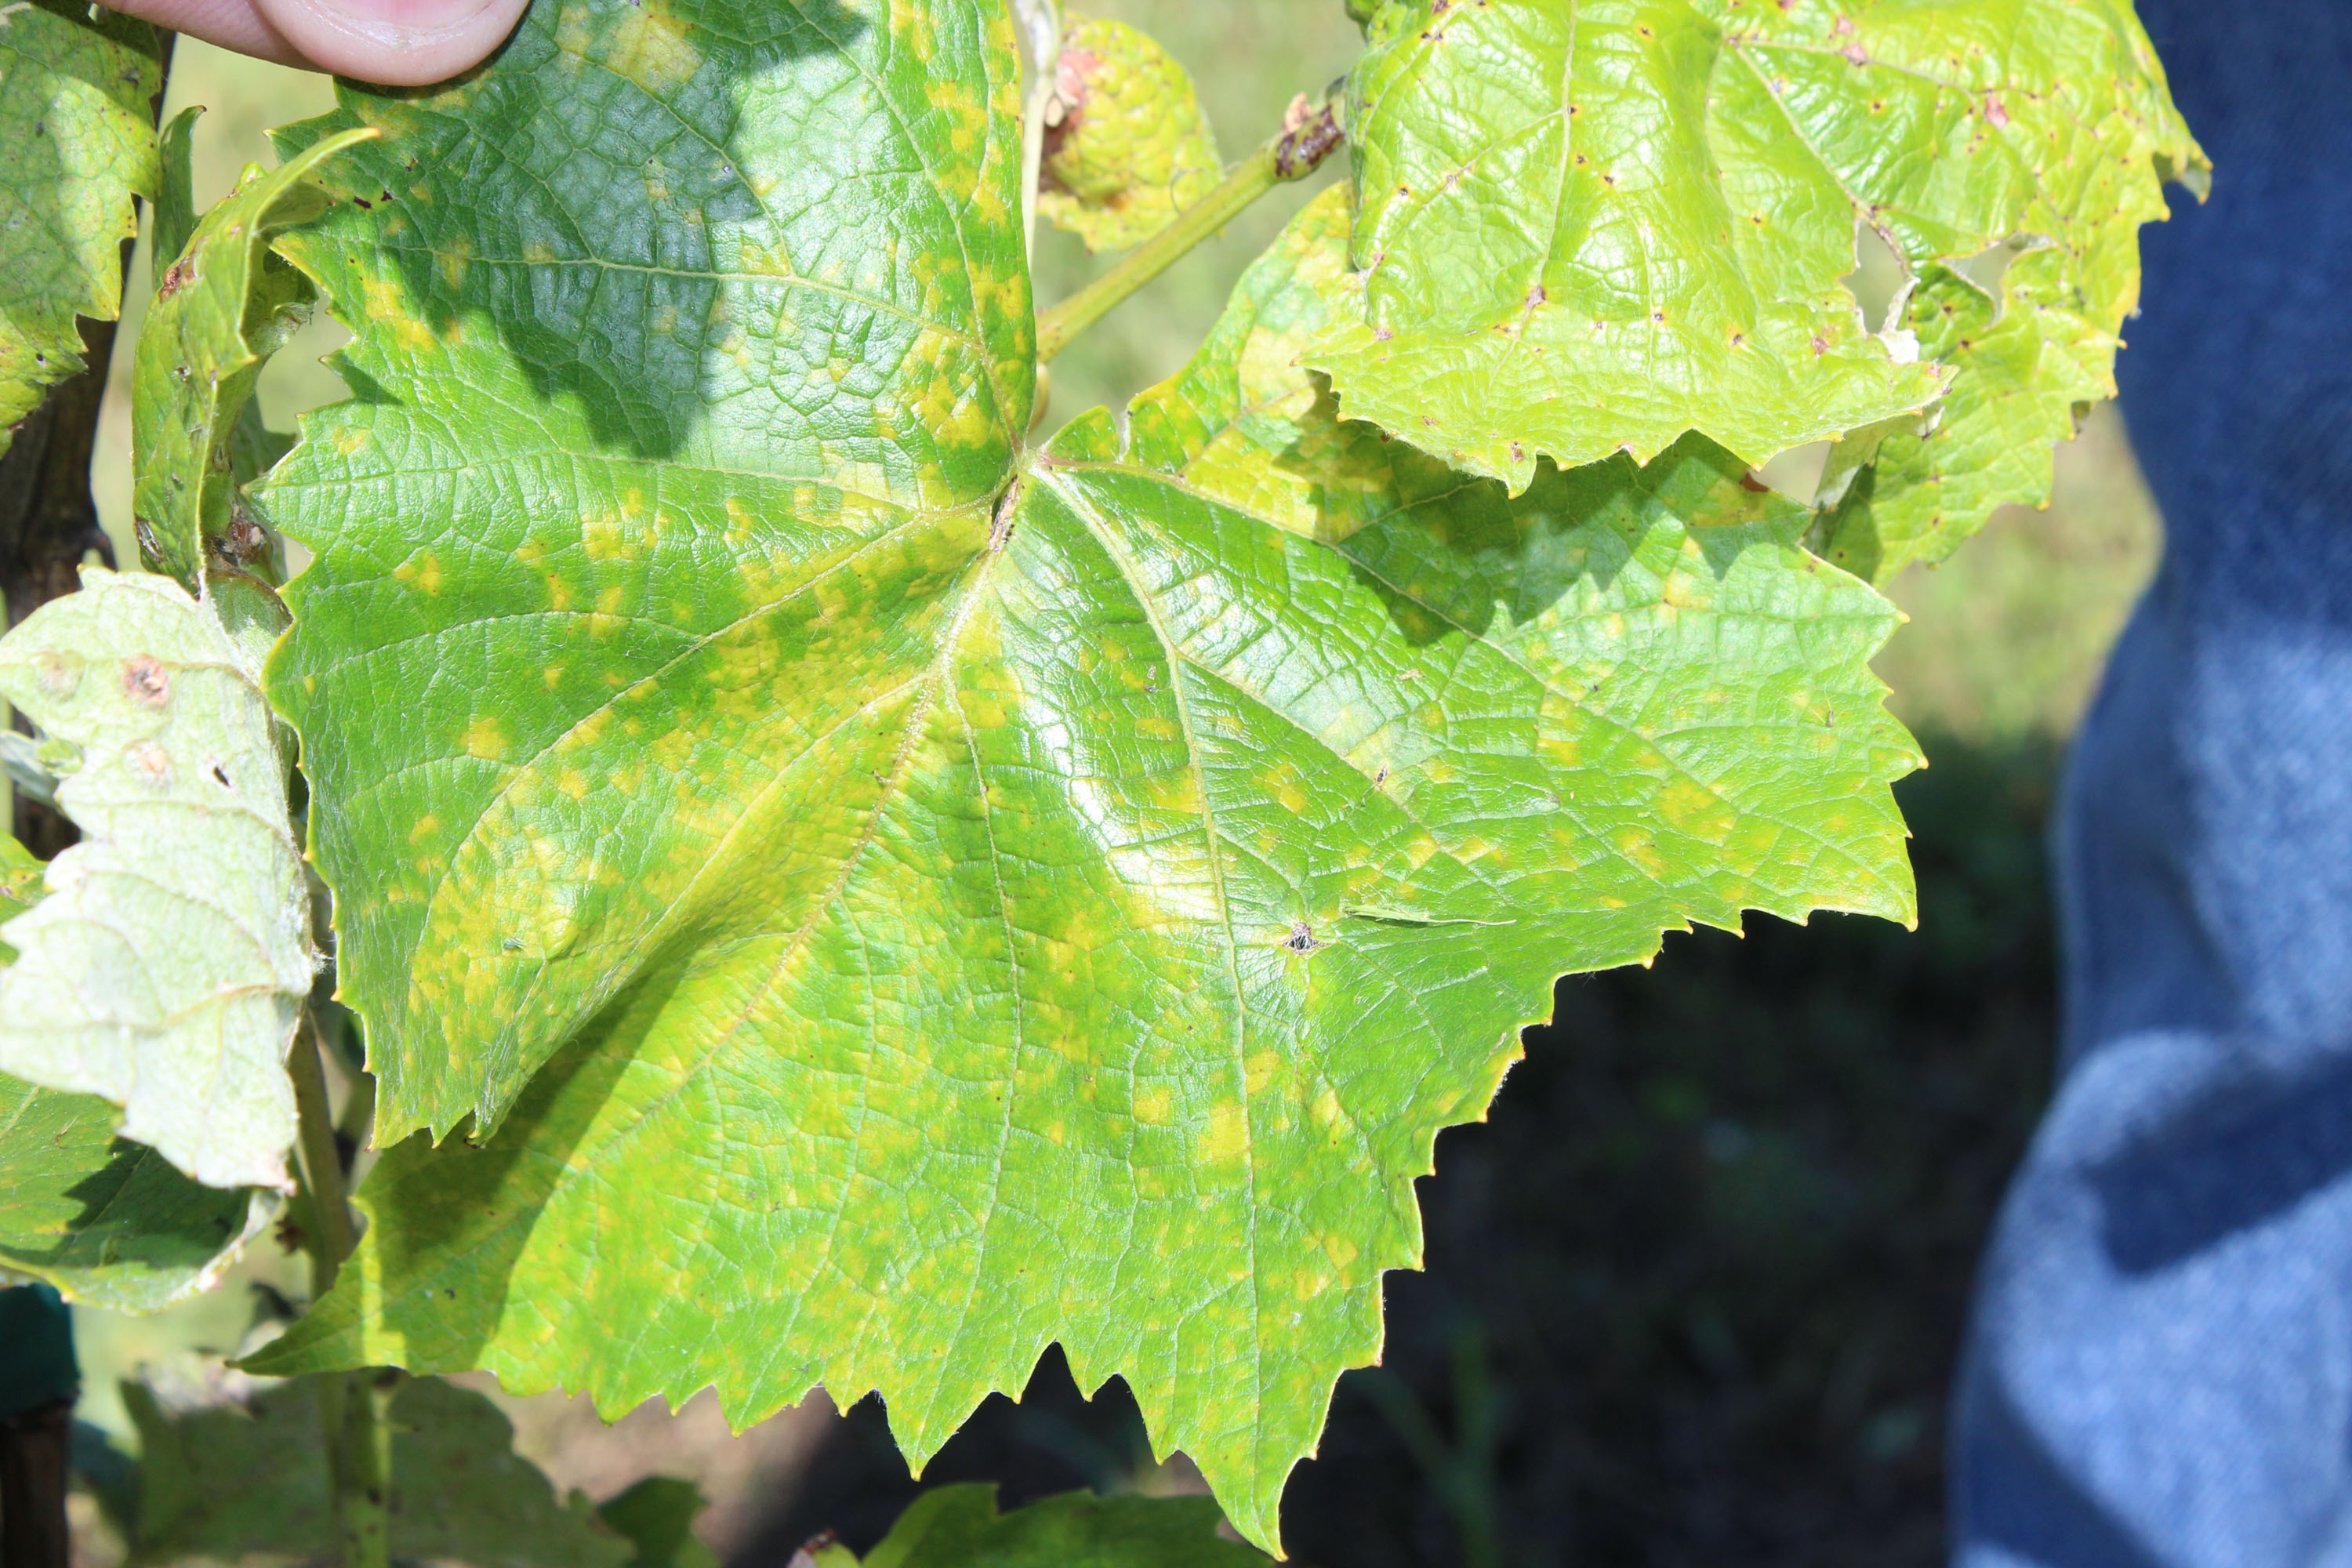downy: (390, 399, 1404, 1244), (1369, 5, 2133, 359), (457, 112, 1027, 397), (1494, 623, 1902, 933), (473, 1277, 1365, 1407)
